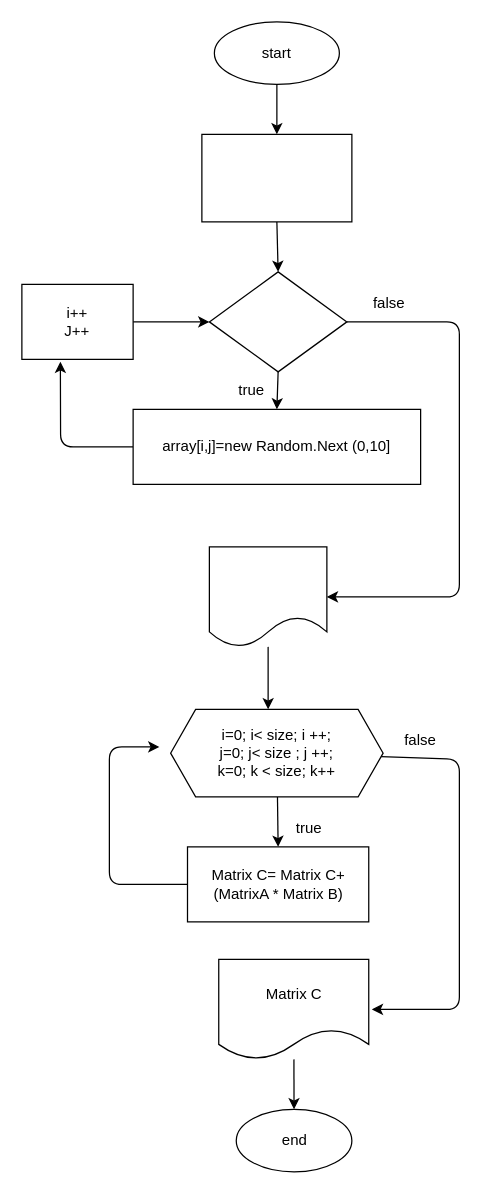
Image size: 491x1194. Some labels were removed from this diagram. The shapes that lost their labels are listed below. From the top down, each one's centre as x and y in pixels, then its label:
At point 276,177: "array [i,j] size Matrix A Matrix B Matrix C".
At point 277,321: "i < size j < size".
At point 267,596: "Matrix A Matrix B".
